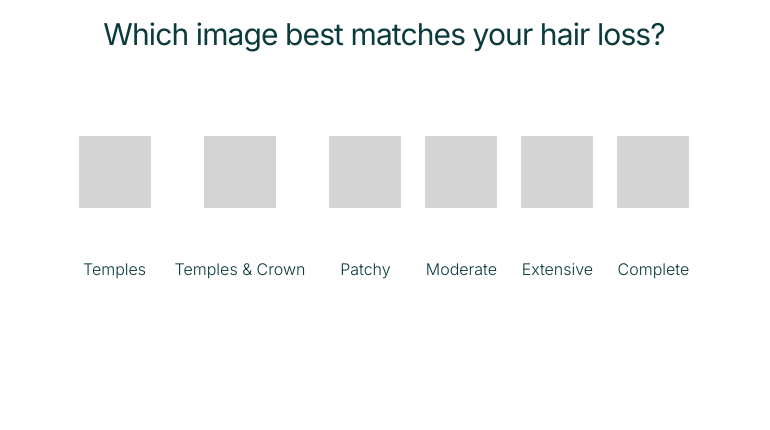
Test: Quiz Component › should handles option click and moves to the next question
This screenshot has width=770, height=430.
Click the text "Temples".
click(115, 269)  # box x1=79 y1=254 x2=151 y2=284
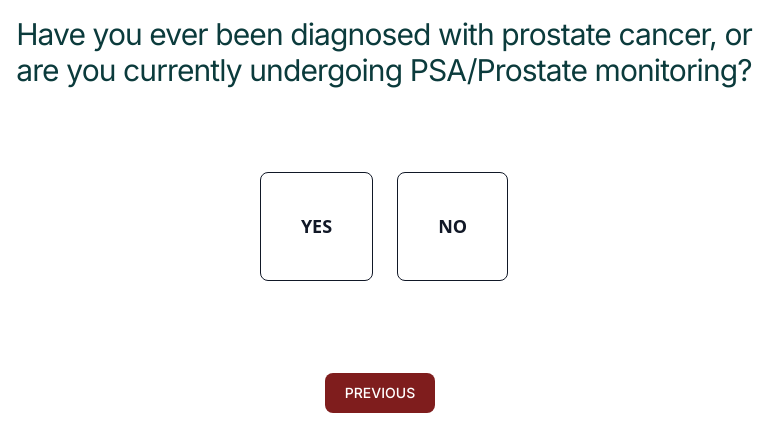
Expected: the heading "Have you ever been diagnosed with prostate cancer, or are you currently undergoing PSA/Prostate monitoring?" is shown, x1=16 y1=16 x2=752 y2=88
